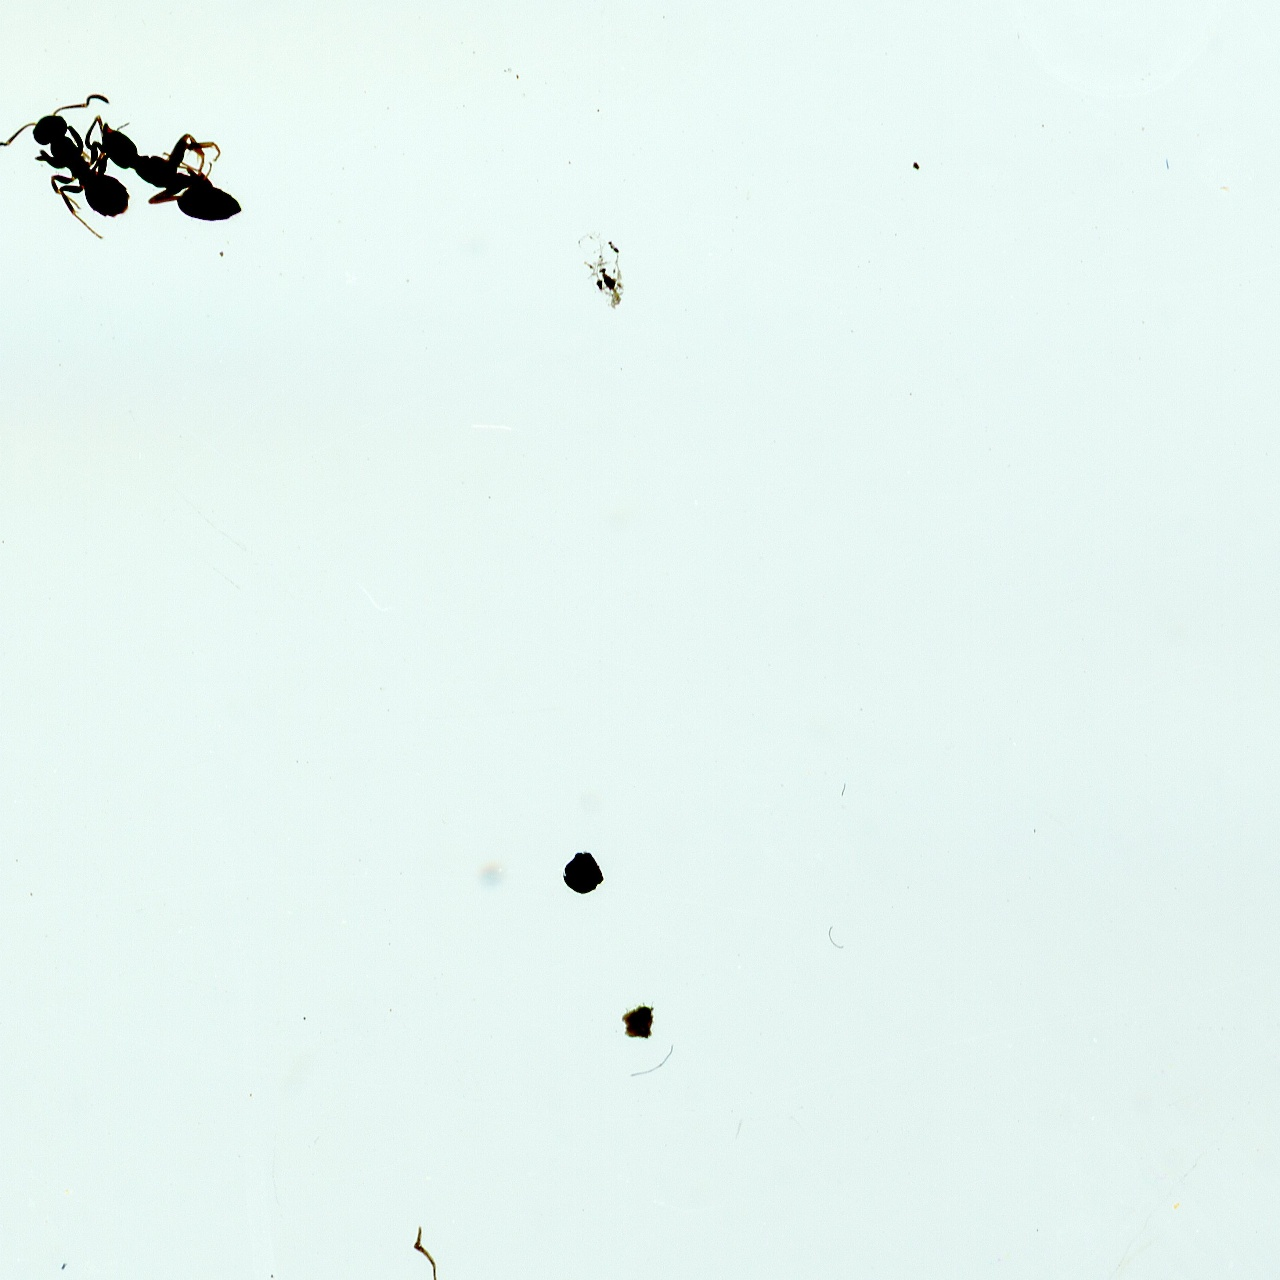arthropod: (0, 64, 129, 245), (93, 98, 246, 231)
